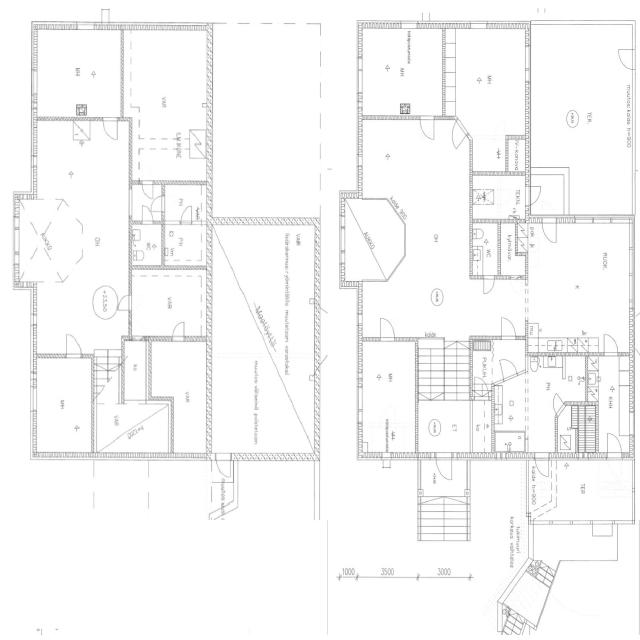door: (208, 19, 322, 225), (125, 27, 209, 180), (33, 26, 124, 119), (162, 183, 206, 223), (540, 198, 559, 246), (605, 430, 623, 479), (434, 451, 454, 484), (448, 118, 468, 149), (214, 449, 233, 481), (64, 330, 84, 360), (100, 113, 120, 142), (378, 313, 397, 343), (418, 112, 436, 143), (499, 313, 517, 342), (616, 44, 636, 70), (533, 451, 551, 478), (602, 330, 620, 357), (130, 314, 147, 342), (500, 356, 519, 381), (142, 195, 161, 220), (170, 318, 187, 343), (149, 193, 165, 217), (138, 161, 154, 185), (491, 118, 508, 140), (526, 183, 542, 206), (178, 203, 194, 225), (551, 390, 566, 413), (482, 273, 496, 297), (161, 192, 176, 214), (140, 202, 154, 225), (140, 180, 154, 201), (510, 275, 523, 296), (378, 405, 390, 424)
window: (572, 212, 616, 227), (337, 212, 348, 258), (522, 40, 533, 84), (356, 52, 366, 98), (354, 129, 365, 170), (626, 264, 636, 308), (355, 382, 365, 424), (626, 242, 636, 284), (28, 381, 39, 415), (12, 218, 21, 258), (29, 64, 39, 99), (468, 18, 489, 31), (124, 396, 146, 408), (76, 19, 97, 31), (400, 18, 420, 30), (338, 250, 346, 267)
zone: (528, 25, 632, 183), (528, 220, 632, 351), (448, 26, 529, 136), (148, 338, 211, 456), (535, 458, 637, 522), (33, 355, 94, 457), (338, 198, 405, 282), (131, 270, 208, 338), (91, 398, 178, 456), (358, 339, 418, 421), (358, 26, 409, 118), (406, 27, 446, 116), (596, 353, 632, 451), (416, 398, 472, 454), (471, 173, 527, 213), (557, 402, 597, 455), (163, 222, 207, 269), (360, 422, 416, 457), (162, 181, 209, 222), (493, 379, 527, 431), (121, 338, 148, 402), (471, 220, 500, 278), (130, 221, 164, 268), (499, 222, 526, 278), (470, 137, 508, 175), (470, 395, 493, 454), (471, 345, 500, 385), (504, 135, 528, 174), (493, 428, 526, 456)
